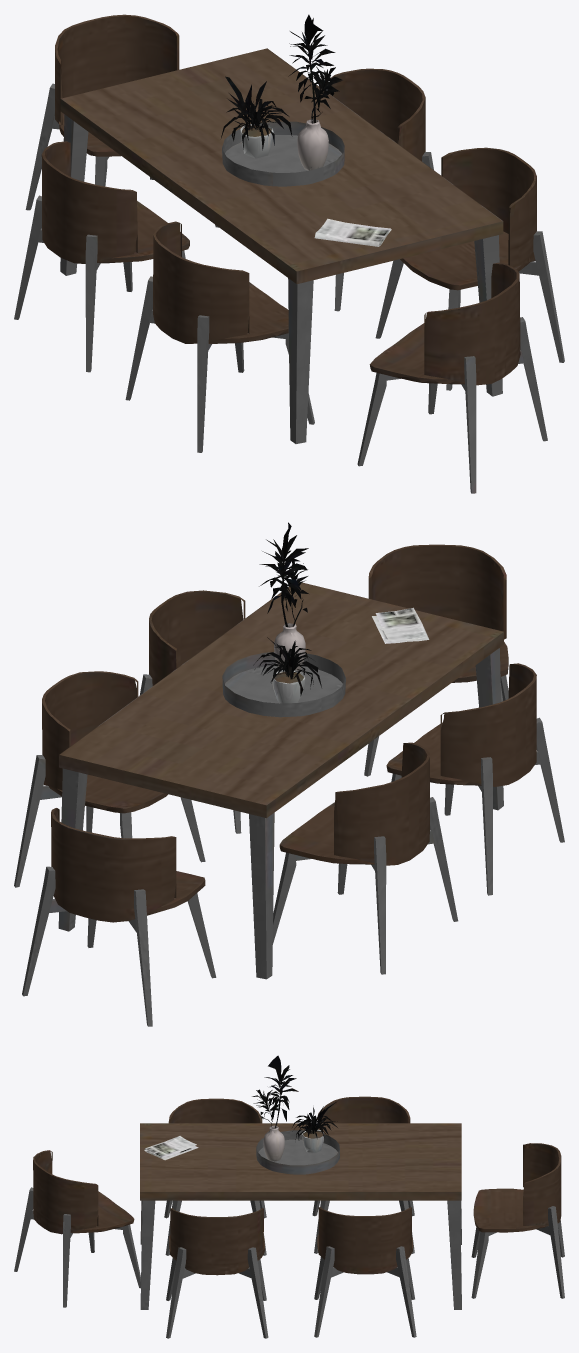
The model's file is DiningTable0001.obj.
The picture shows the model from 3 angles, top to bottom: view 1: azimuth 30°, elevation 25°; view 2: azimuth 150°, elevation 25°; view 3: azimuth 270°, elevation 25°; orthographic projection. The views are drawn at different scales.
Bounding box in the file's own units: 1.68 × 1.43 × 3.17.
Materials: 1 (1 with a texture image).
